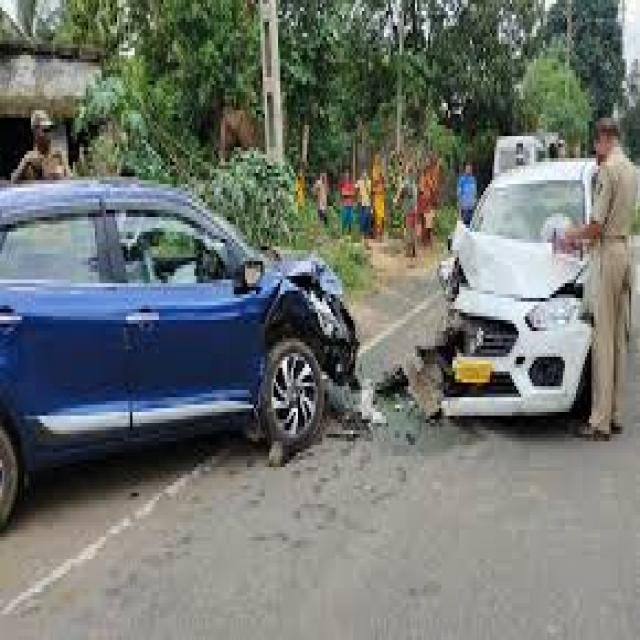accident: (2, 161, 382, 542), (201, 136, 564, 478)
